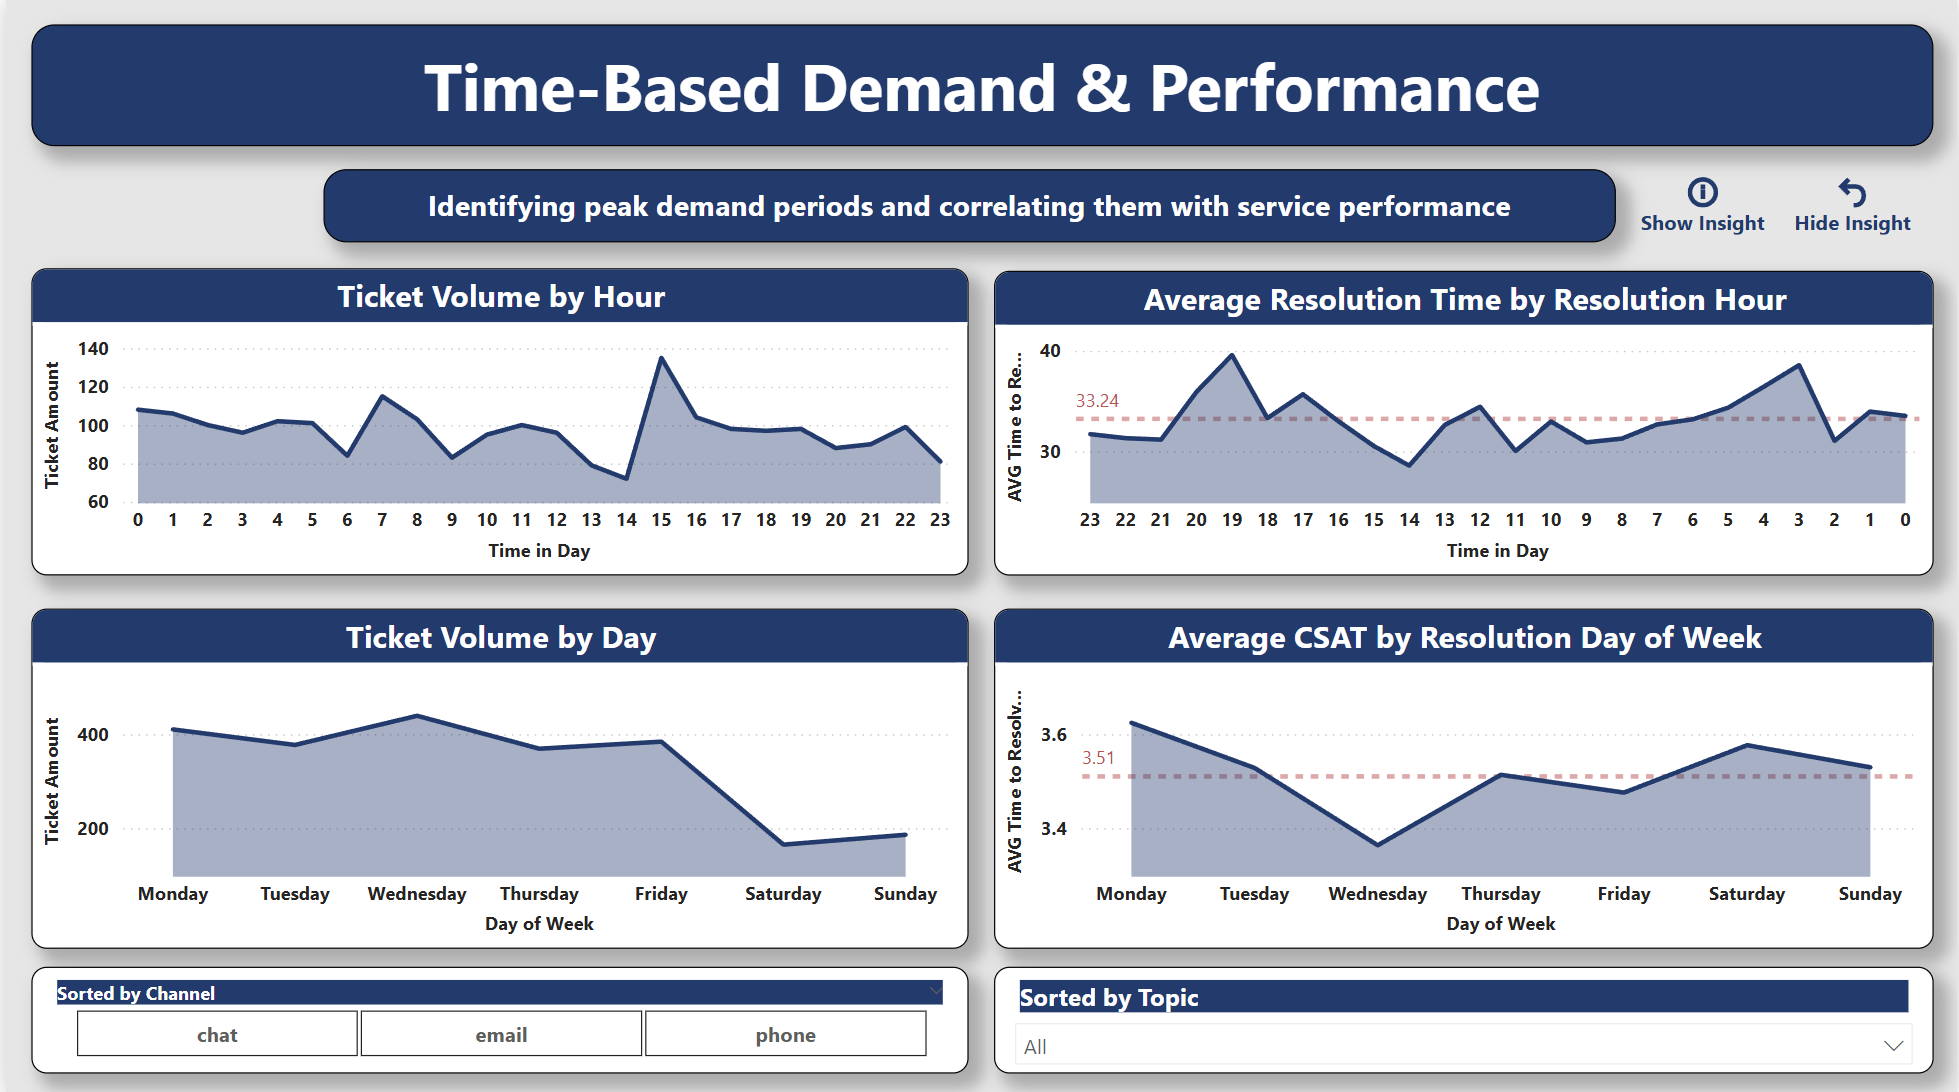

The dashboard page shown, as its layout file describes it:
{"tool":"powerbi","page":{"name":"Time-Based Trends","canvas":[1280,720],"ordinal":3},"visuals":[{"type":"textbox","box":[16,16,1248,80],"z":0},{"type":"textbox","box":[208,112,848,48],"z":1000},{"type":"lineChart","title":"Ticket Volume by Hour","fields":{"Category":["technical_support_data_engineered.Created_Hour_of_Day"],"Y":["CountNonNull(technical_support_data_engineered.Ticket ID)"]},"box":[16.7,176.7,615,201.7],"z":2000},{"type":"areaChart","title":"Average Resolution Time by Resolution Hour","fields":{"Y":["technical_support_data_engineered.Average Resolution Time (Hours)"],"Category":["technical_support_data_engineered.Resolution_Hour_of_Day"]},"box":[648.3,178.3,616.7,200],"z":3000},{"type":"lineChart","title":"Ticket Volume by Day","fields":{"Y":["CountNonNull(technical_support_data_engineered.Ticket ID)"],"Category":["technical_support_data_engineered.Created_Day_of_Week_Name"]},"box":[16.7,400,615,223.3],"z":6000},{"type":"areaChart","title":"Average CSAT by Resolution Day of Week","fields":{"Category":["technical_support_data_engineered.Resolution_Day_of_Week_Name"],"Y":["technical_support_data_engineered.Average CSAT Score"]},"box":[648.3,400,616.7,223.3],"z":7000},{"type":"slicer","fields":{"Values":["technical_support_data_engineered.Source"]},"box":[16.7,635,615,70],"z":8000},{"type":"slicer","fields":{"Values":["technical_support_data_engineered.Topic"]},"box":[648.3,635,616.7,70],"z":9000},{"type":"actionButton","title":"show insight button","box":[1068.3,111.7,90,48.3],"z":11000},{"type":"actionButton","title":"Hide Insight Button","box":[1158.3,111.7,106.7,48.3],"z":12000}]}

Visuals, with their boxes in screenshot pixels (x1, y1, x2, y2), scaled from the page's 1280x720 canvas onto the 1959x1092 screenshot:
textbox: l=24, t=24, r=1935, b=146
textbox: l=318, t=170, r=1616, b=243
"Ticket Volume by Hour" lineChart: l=26, t=268, r=967, b=574
"Average Resolution Time by Resolution Hour" areaChart: l=992, t=270, r=1936, b=574
"Ticket Volume by Day" lineChart: l=26, t=607, r=967, b=945
"Average CSAT by Resolution Day of Week" areaChart: l=992, t=607, r=1936, b=945
slicer - technical_support_data_engineered.Source: l=26, t=963, r=967, b=1069
slicer - technical_support_data_engineered.Topic: l=992, t=963, r=1936, b=1069
"show insight button" actionButton: l=1635, t=169, r=1773, b=243
"Hide Insight Button" actionButton: l=1773, t=169, r=1936, b=243
